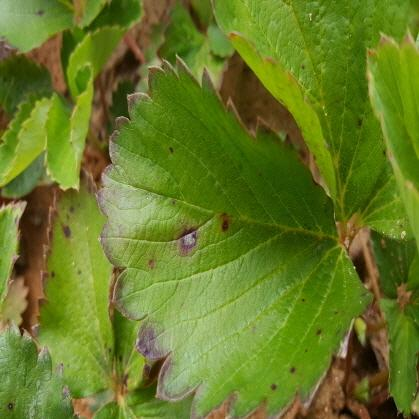Leaf Spot: (93, 52, 375, 418), (210, 0, 418, 224), (35, 163, 118, 397), (0, 318, 77, 418), (0, 0, 76, 56), (110, 305, 157, 392), (0, 198, 28, 311)
